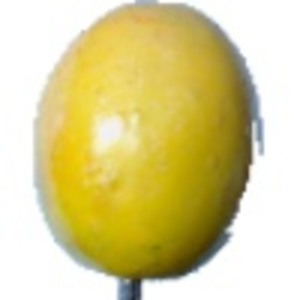maracujá: (33, 1, 266, 300)
